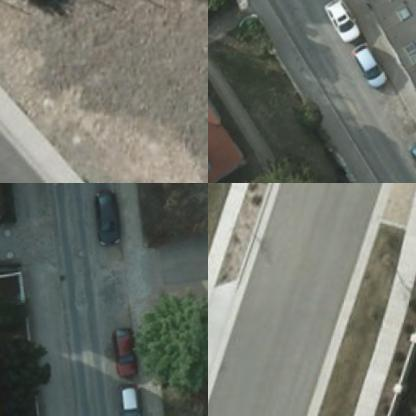car: (347, 43, 388, 94), (319, 0, 360, 46), (111, 325, 142, 380), (92, 193, 118, 244), (117, 379, 146, 415)
